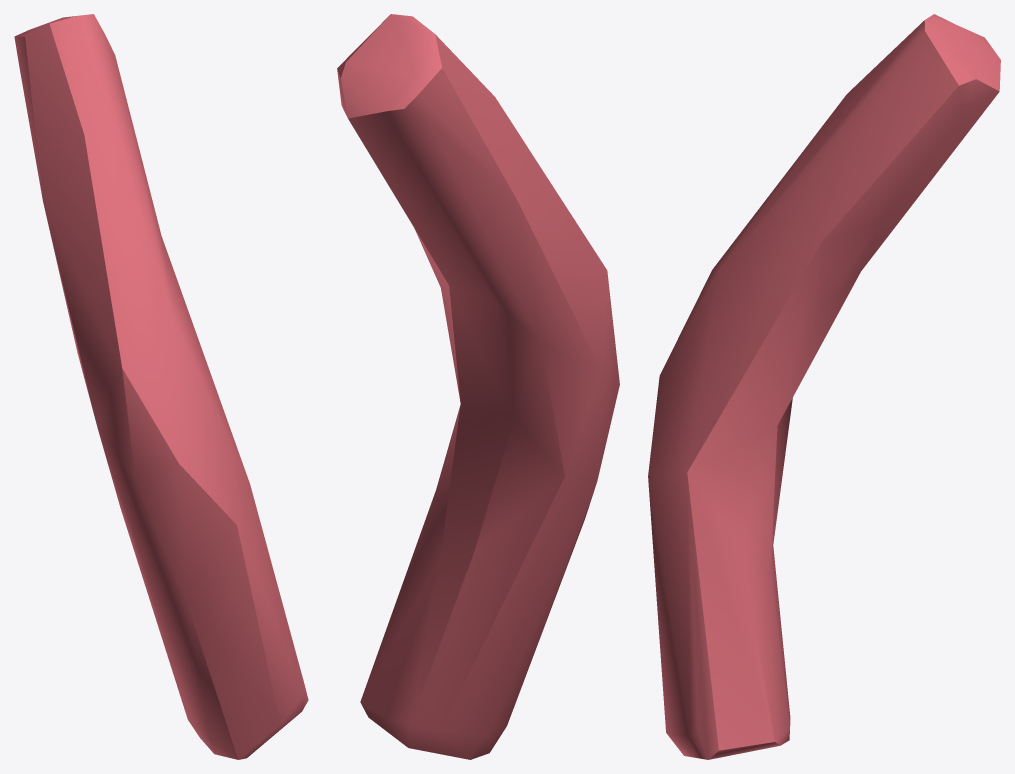
The model's file is fma68662_fj3015.glb.
3 views of the same model, side by side, from view 1: azimuth 30°, elevation 25°; view 2: azimuth 150°, elevation 25°; view 3: azimuth 270°, elevation 25° (orthographic). The views are drawn at different scales.
Parts seen in each view (by area): view 1: FMA68662_FJ3015; view 2: FMA68662_FJ3015; view 3: FMA68662_FJ3015.
Boxes of the visible parts, left/top/right/bottom form: FMA68662_FJ3015: left=14, top=14, right=308, bottom=759; FMA68662_FJ3015: left=337, top=14, right=619, bottom=759; FMA68662_FJ3015: left=648, top=14, right=1000, bottom=759.
Bounding box in the file's own units: 0.00455 × 0.015 × 0.00678.
